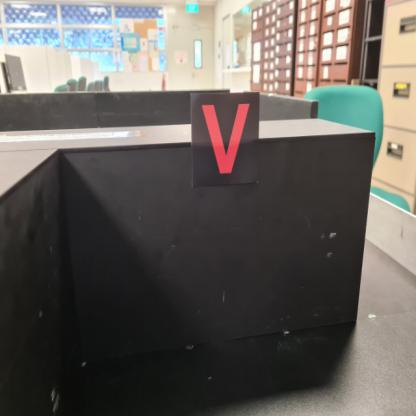v: (190, 92, 261, 187)
